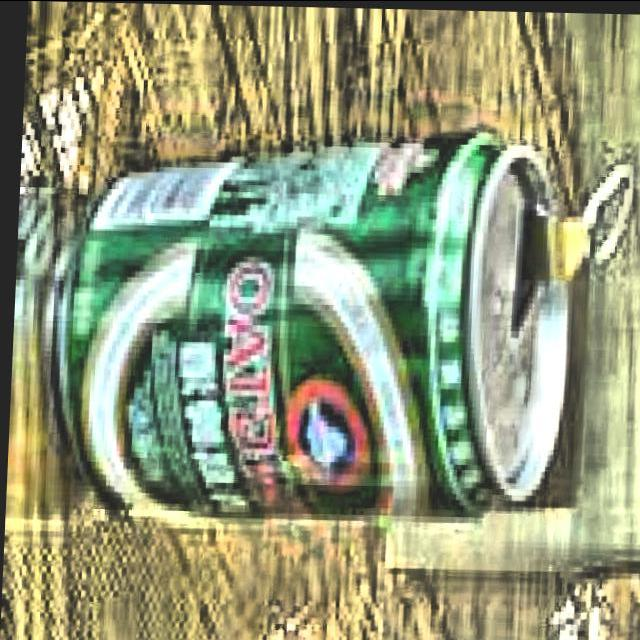litter: (49, 115, 636, 528)
